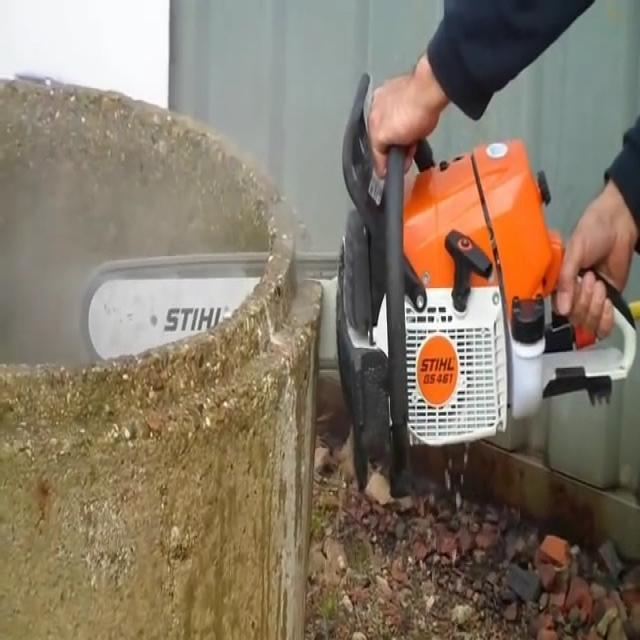Chainsaw: (68, 61, 634, 459)
